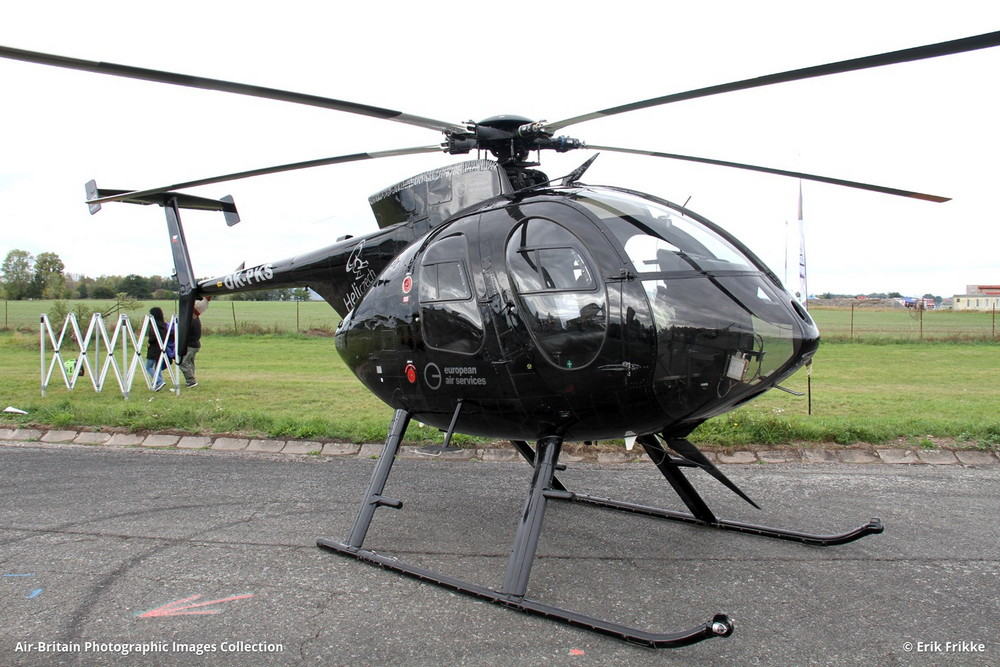Aeronef_de_loisir: (1, 8, 954, 654)
